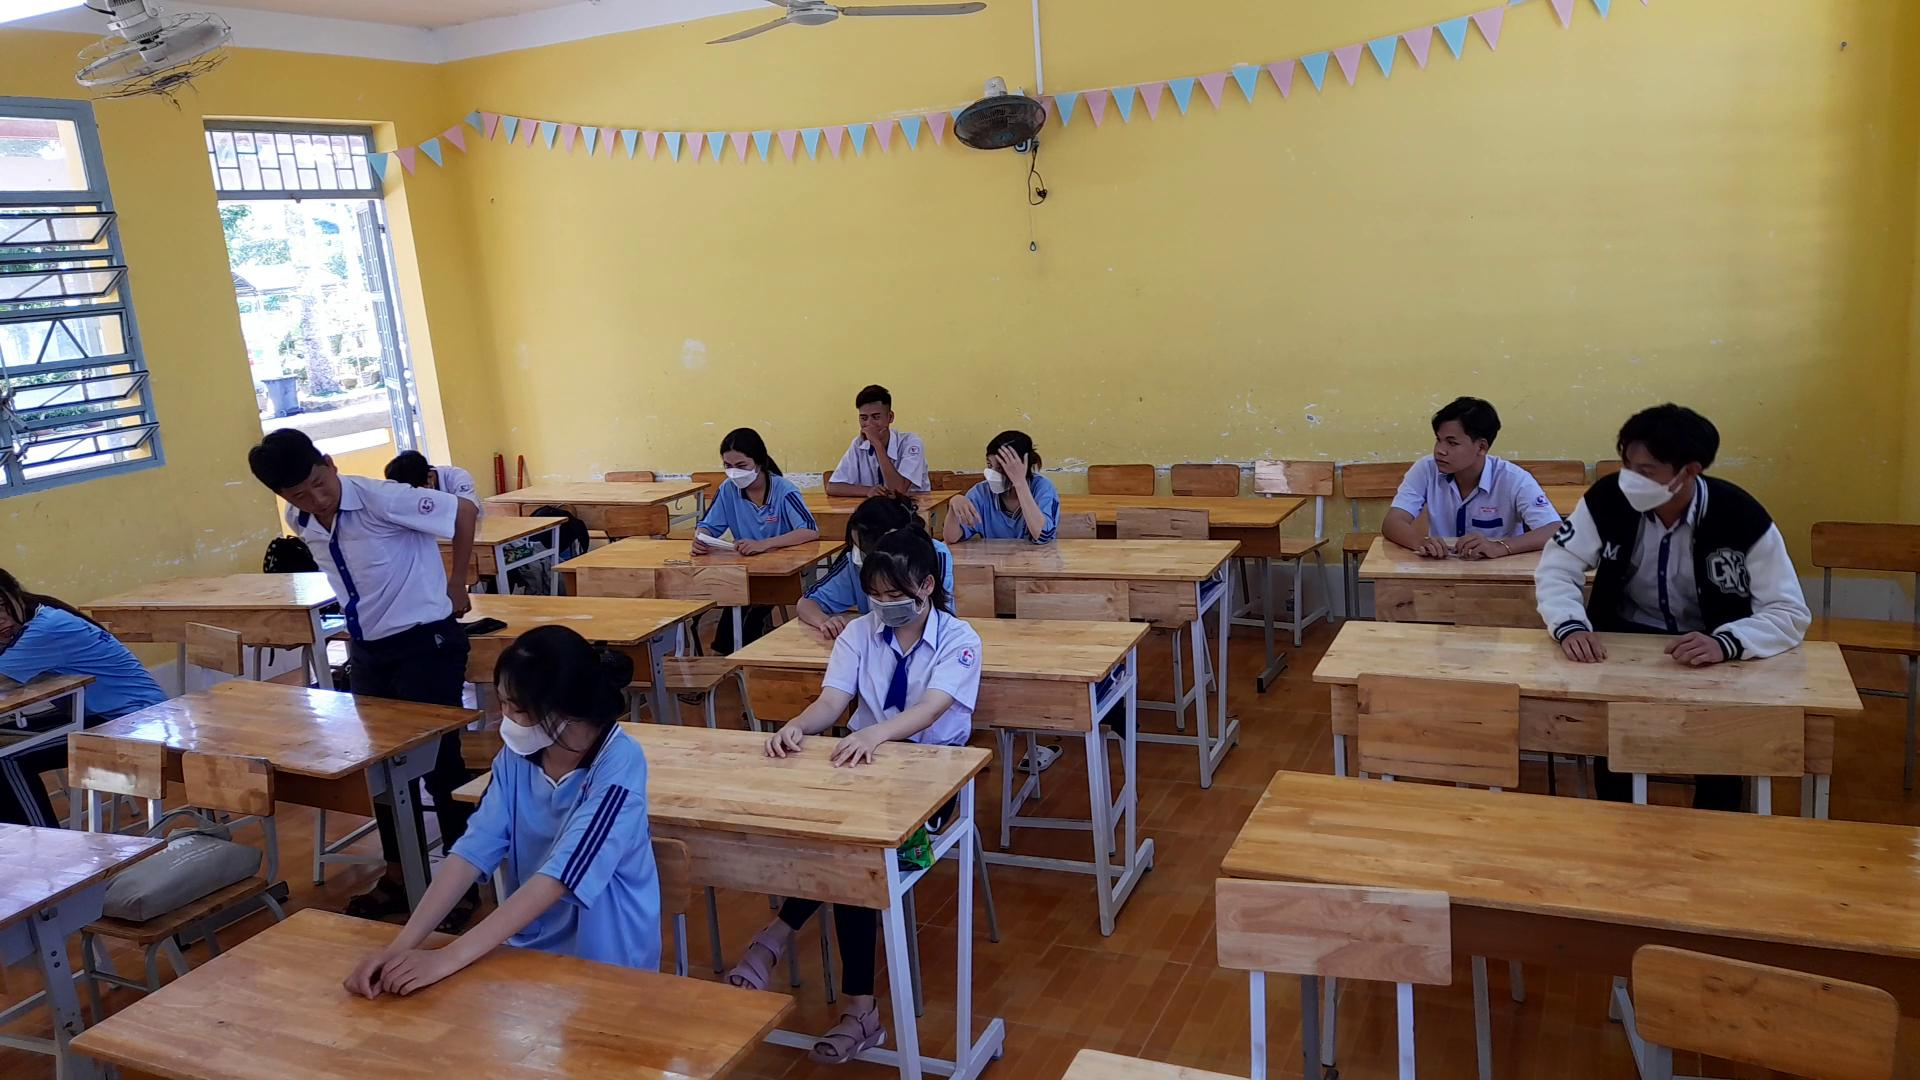Look Around: (1416, 389, 1509, 477)
Normal: (762, 514, 984, 777), (683, 404, 831, 559)
Stand Up: (240, 405, 477, 705)
Wave: (1005, 444, 1062, 541), (864, 411, 911, 495)
